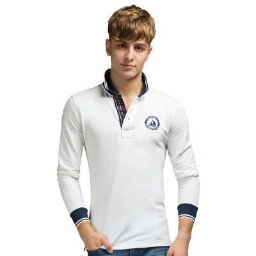face: (104, 5, 156, 81)
